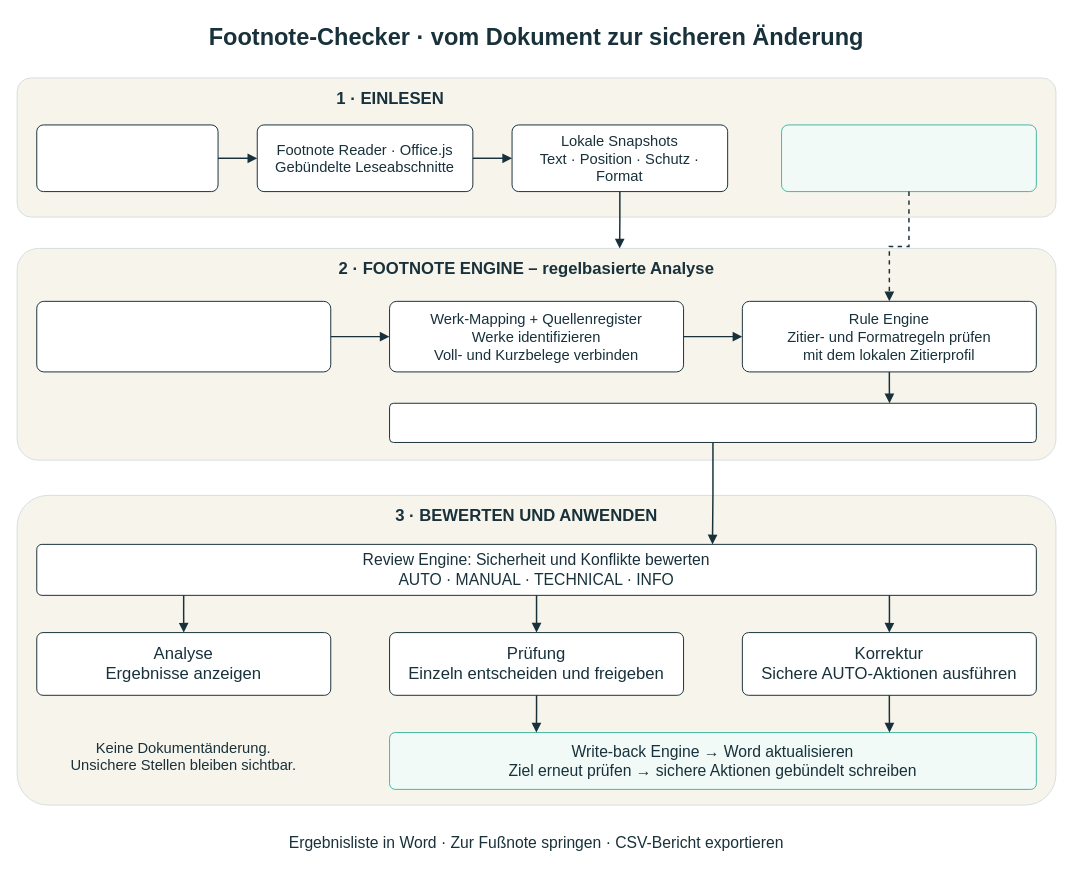
Image size: 1073x876. Some labels were removed from this diagram. The box of each missing label's shape, as (x1, y1, x2, y2) in pixels:
Lokale Einstellungen Zitierprofil · Werke · Abkürzungen: (781, 124, 1036, 192)
Parser Quellen trennen Zitierart und Fundstellen erkennen: (36, 300, 331, 372)
Prüfhinweise: Regel · Original · Vorschlag · Textposition: (389, 402, 1036, 442)
Word-Dokument Fußnoten + Formatierung: (36, 124, 218, 192)
